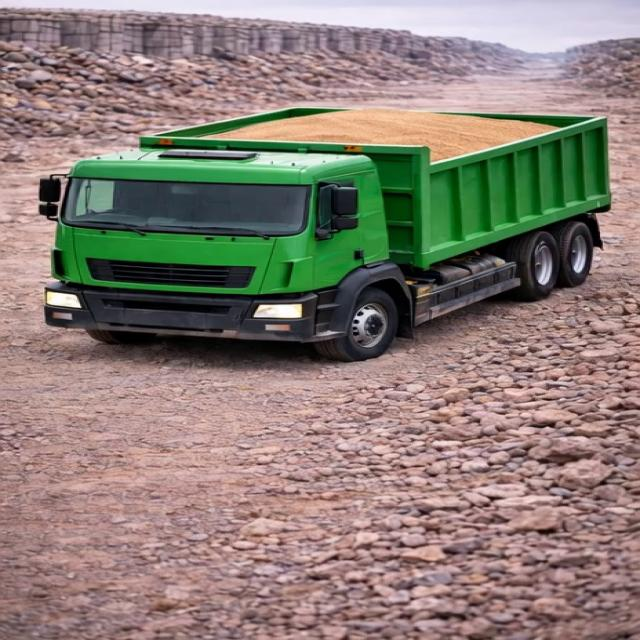Box: (118, 105, 610, 156)
Truck: (32, 90, 638, 355)
